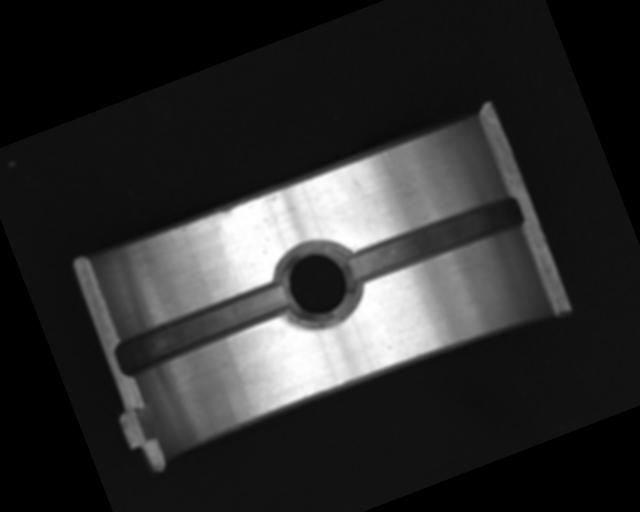gap: (336, 187, 529, 294), (110, 276, 296, 381)
hole: (267, 232, 370, 336)
nick: (380, 149, 395, 171)
